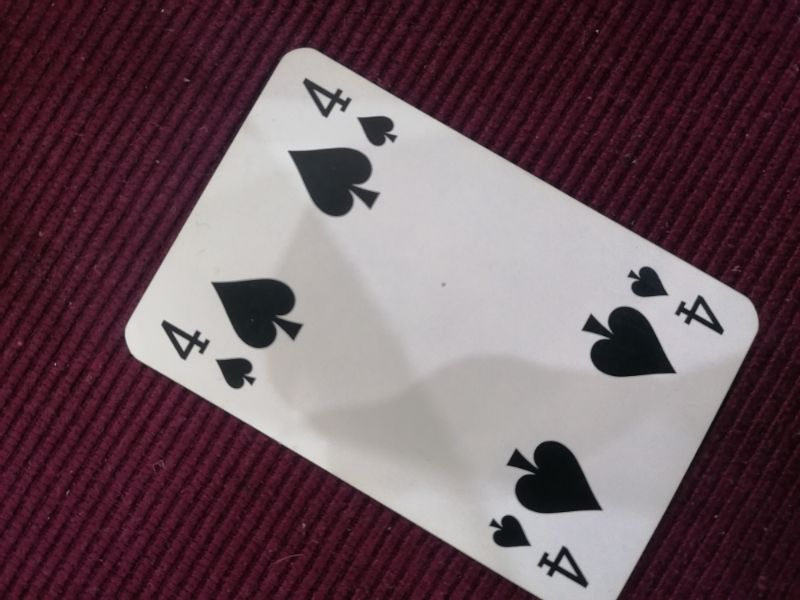4s: (485, 513, 594, 592), (299, 71, 402, 149), (154, 316, 259, 392), (625, 262, 728, 339)
